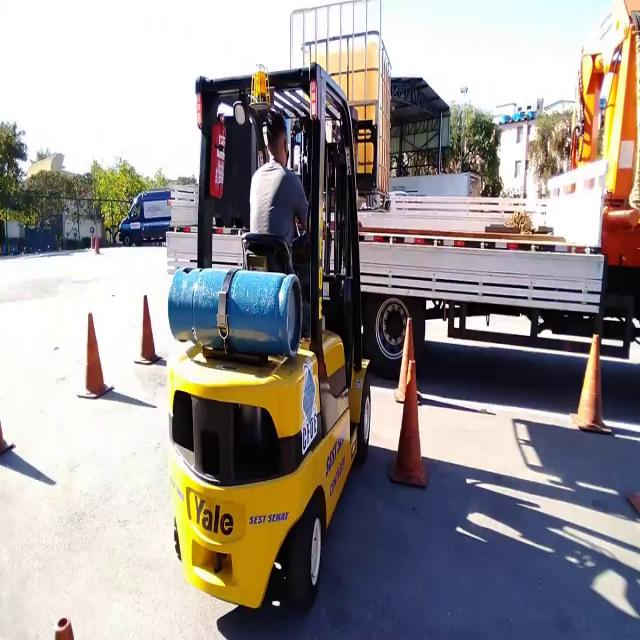Chariot elevateur: (156, 59, 388, 626)
